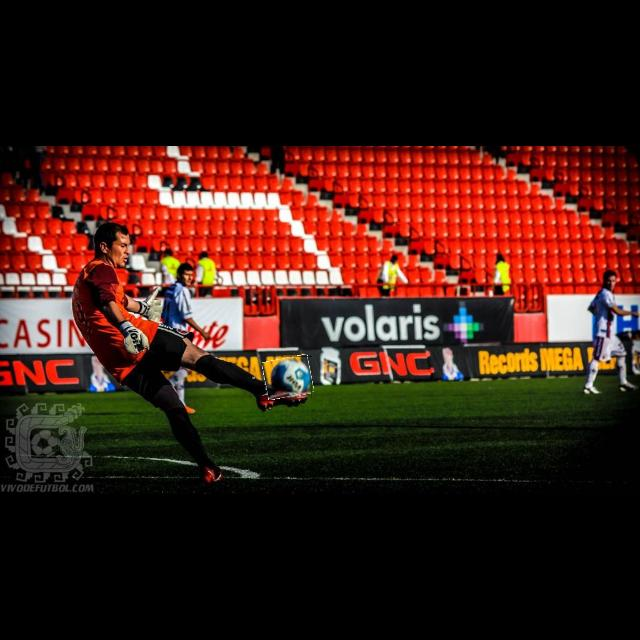Football: (264, 356, 312, 398)
